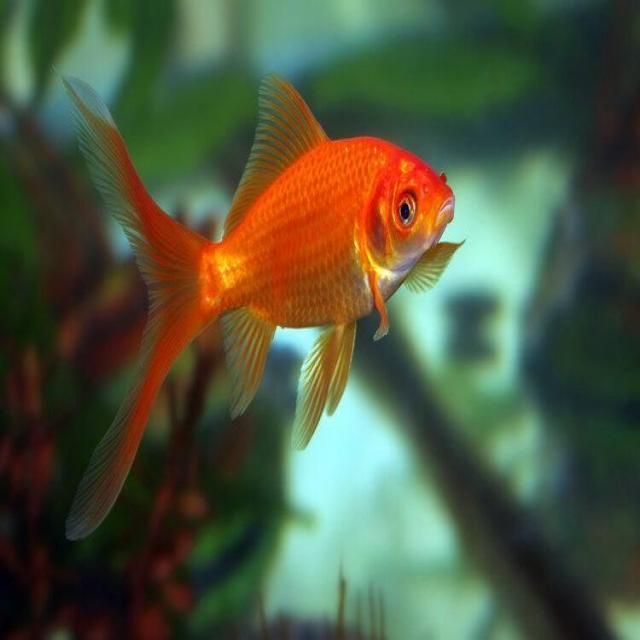GoldFish: (59, 68, 457, 547)
